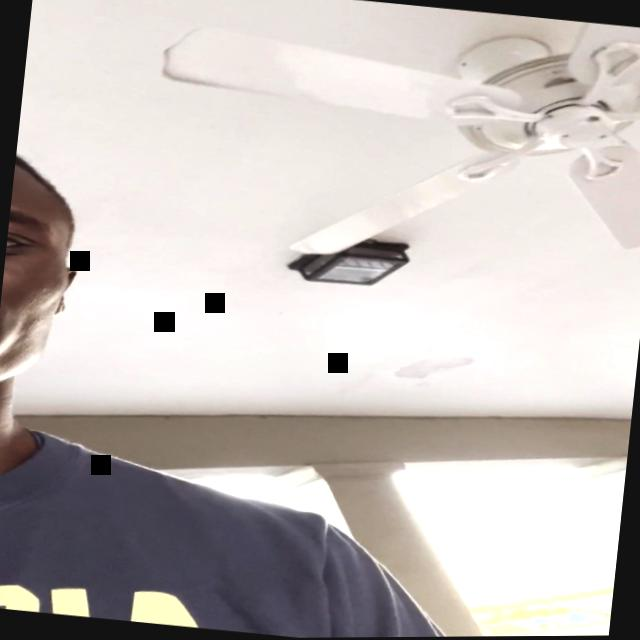NO-Mask: (0, 149, 85, 410)
